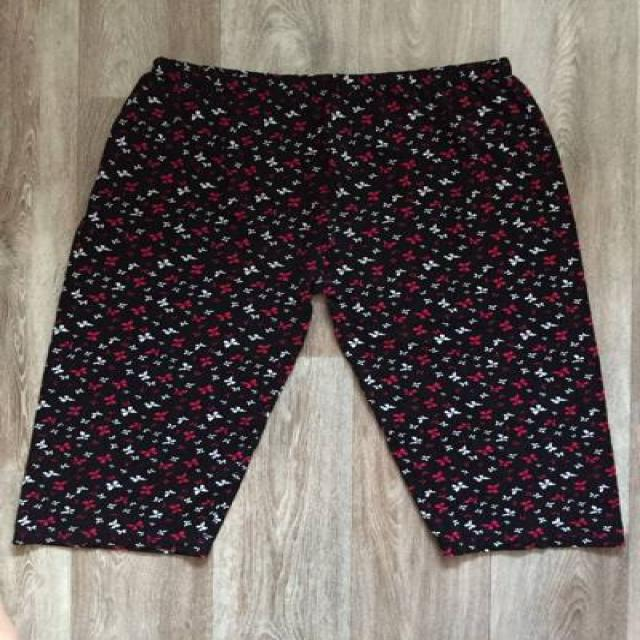Clothes -Biodegradable-: (12, 58, 624, 559)
